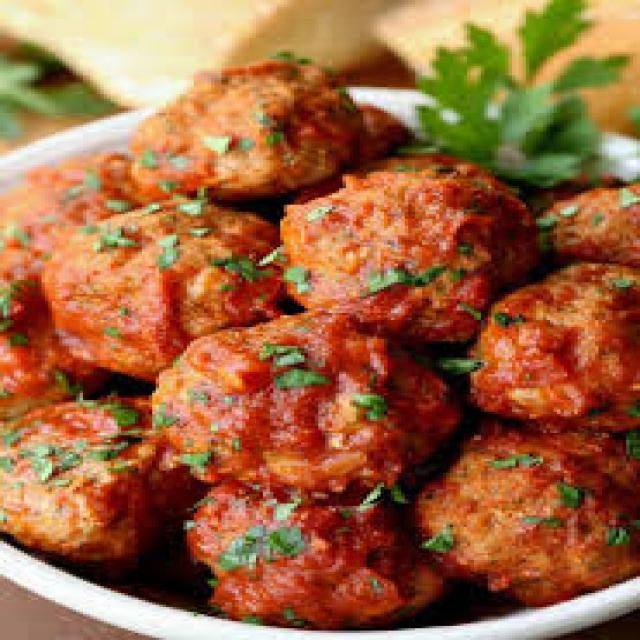Meatball: (140, 314, 463, 498), (266, 154, 540, 346), (31, 195, 289, 382), (409, 428, 640, 602), (185, 461, 436, 616), (122, 61, 369, 200), (0, 398, 182, 562)
